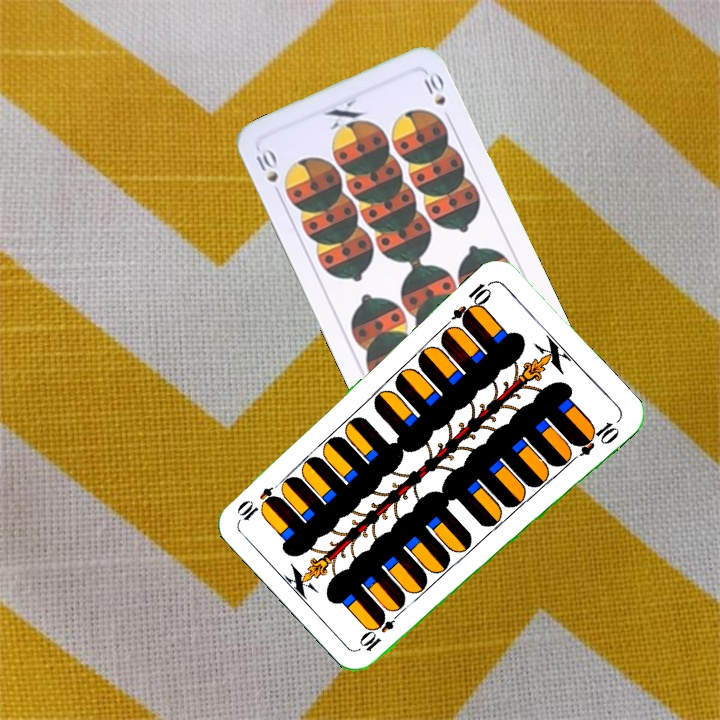E10: (448, 277, 496, 328), (356, 605, 405, 654)
S10: (252, 144, 285, 201)
